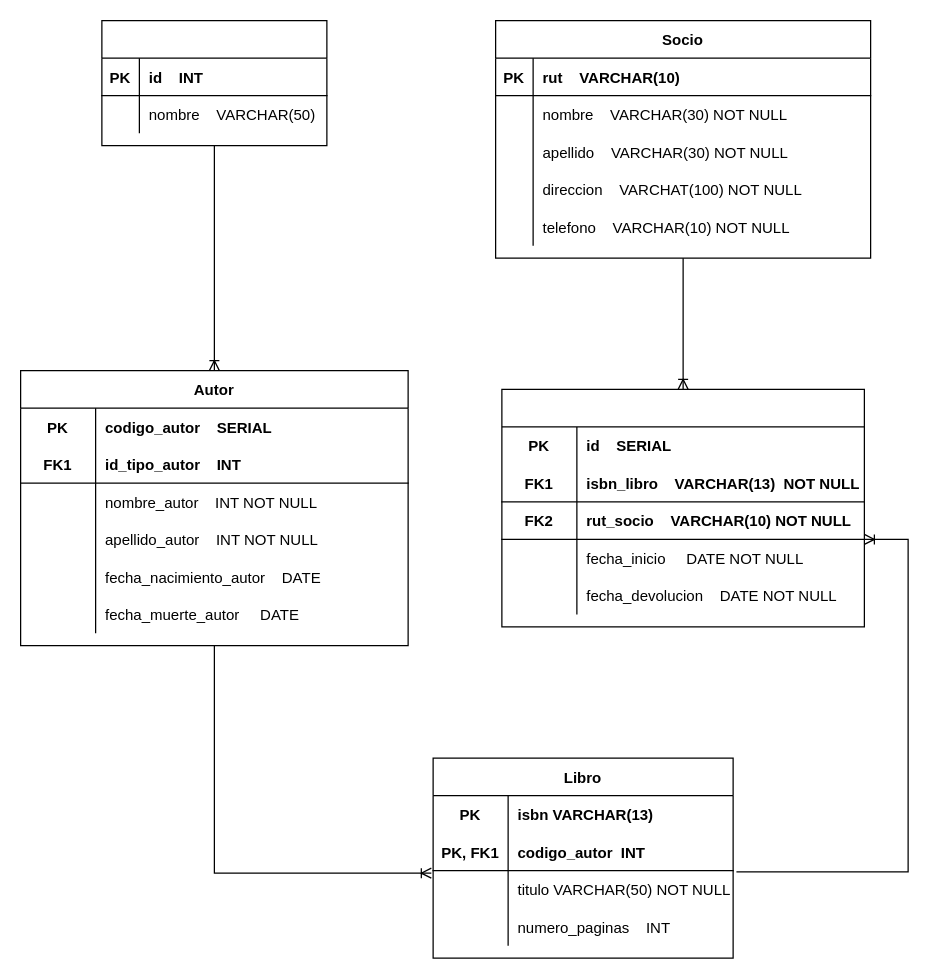
The diagram is 929 pixels wide and 979 high, and some of its shapes have lost their labels. The shapes that lost their labels are listed below. From the top down, each one's box as (x1, y1, x2, y2) in pixels, then its label:
(101, 19, 327, 146): Tipo_autor
(501, 388, 864, 627): Prestamo
